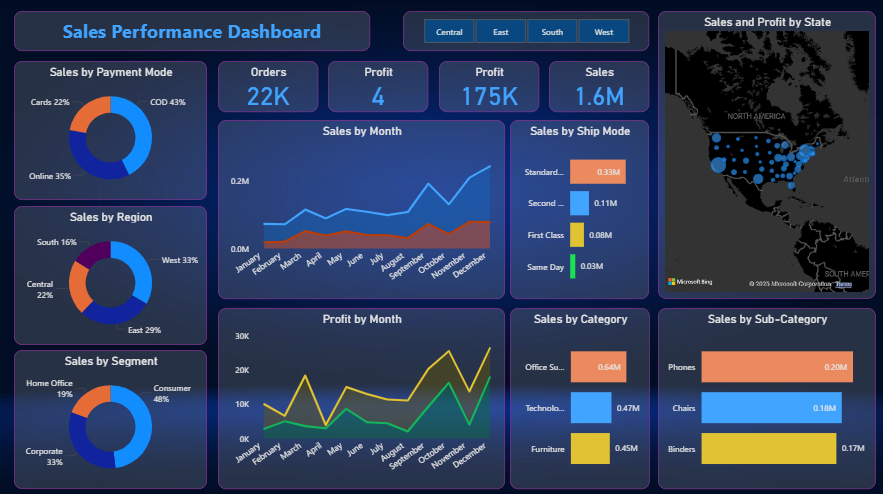

What the dashboard file says about the page in this screenshot:
{"tool":"powerbi","page":{"name":" Dashboard","canvas":[1280,720],"ordinal":0},"visuals":[{"type":"clusteredBarChart","title":"Sales by Category","fields":{"Category":["SuperStore_Sales_Dataset.Category"],"Y":["Sum(SuperStore_Sales_Dataset.Sales)"]},"box":[738.8,445.3,202.4,261.7],"z":0},{"type":"clusteredBarChart","title":"Sales by Sub-Category","fields":{"Y":["Sum(SuperStore_Sales_Dataset.Sales)"],"Category":["SuperStore_Sales_Dataset.Sub-Category"]},"box":[952.8,445.3,315.2,261.7],"z":1000},{"type":"clusteredBarChart","title":"Sales by Ship Mode","fields":{"Y":["Sum(SuperStore_Sales_Dataset.Sales)"],"Category":["SuperStore_Sales_Dataset.Ship Mode"]},"box":[738.8,173.5,201,258.8],"z":2000},{"type":"stackedAreaChart","title":"Sales by Month","fields":{"Y":["Sum(SuperStore_Sales_Dataset.Sales)"],"Category":["SuperStore_Sales_Dataset.Order Date.Variation.Date Hierarchy.Month","SuperStore_Sales_Dataset.Order Date.Variation.Date Hierarchy.Day"],"Series":["SuperStore_Sales_Dataset.Order Date.Variation.Date Hierarchy.Year"]},"box":[316.6,173.5,414.9,258.8],"z":3000},{"type":"stackedAreaChart","title":"Profit by Month","fields":{"Category":["SuperStore_Sales_Dataset.Order Date.Variation.Date Hierarchy.Month","SuperStore_Sales_Dataset.Order Date.Variation.Date Hierarchy.Day"],"Series":["SuperStore_Sales_Dataset.Order Date.Variation.Date Hierarchy.Year"],"Y":["Sum(SuperStore_Sales_Dataset.Profit)"]},"box":[316.6,445.3,414.9,261.7],"z":4000},{"type":"donutChart","title":"Sales by Segment","fields":{"Category":["SuperStore_Sales_Dataset.Segment"],"Y":["Sum(SuperStore_Sales_Dataset.Sales)"]},"box":[21.7,506,279,201],"z":5000},{"type":"map","title":"Sales and Profit by State","fields":{"Category":["SuperStore_Sales_Dataset.State"],"Size":["Sum(SuperStore_Sales_Dataset.Sales)"]},"box":[952.8,15.9,315.2,416.4],"z":6000},{"type":"donutChart","title":"Sales by Payment Mode","fields":{"Category":["SuperStore_Sales_Dataset.Payment Mode"],"Y":["Sum(SuperStore_Sales_Dataset.Sales)"]},"box":[21.7,88.2,279,201],"z":7000},{"type":"slicer","fields":{"Values":["SuperStore_Sales_Dataset.Region"]},"box":[584.1,15.9,355.7,57.8],"z":8000},{"type":"card","title":"Sales","fields":{"Values":["Sum(SuperStore_Sales_Dataset.Sales)"]},"box":[795.2,88.2,144.6,73.7],"z":9000},{"type":"card","title":"Orders","fields":{"Values":["Sum(SuperStore_Sales_Dataset.Quantity)"]},"box":[316.6,88.2,144.6,73.7],"z":10000},{"type":"card","title":"Profit","fields":{"Values":["Sum(SuperStore_Sales_Dataset.Profit)"]},"box":[635.7,88.2,144.6,73.7],"z":11000},{"type":"card","title":"Profit","fields":{"Values":["Avg(SuperStore_Sales_Dataset.AvgDelivery)"]},"box":[476.1,88.2,144.6,73.7],"z":12000},{"type":"textbox","box":[21.7,15.9,514.7,57.8],"z":13000},{"type":"donutChart","title":"Sales by Region","fields":{"Category":["SuperStore_Sales_Dataset.Region"],"Y":["Sum(SuperStore_Sales_Dataset.Sales)"]},"box":[21.7,297.1,279,201],"z":14000}]}

Visuals, with their boxes in screenshot pixels (x1, y1, x2, y2), scaled from the page's 1280x720 canvas onto the 883x494 screenshot:
"Sales by Category" clusteredBarChart: [510,306,649,485]
"Sales by Sub-Category" clusteredBarChart: [657,306,875,485]
"Sales by Ship Mode" clusteredBarChart: [510,119,648,297]
"Sales by Month" stackedAreaChart: [218,119,505,297]
"Profit by Month" stackedAreaChart: [218,306,505,485]
"Sales by Segment" donutChart: [15,347,207,485]
"Sales and Profit by State" map: [657,11,875,297]
"Sales by Payment Mode" donutChart: [15,61,207,198]
slicer - SuperStore_Sales_Dataset.Region: [403,11,648,51]
"Sales" card: [549,61,648,111]
"Orders" card: [218,61,318,111]
"Profit" card: [439,61,538,111]
"Profit" card: [328,61,428,111]
textbox: [15,11,370,51]
"Sales by Region" donutChart: [15,204,207,342]
